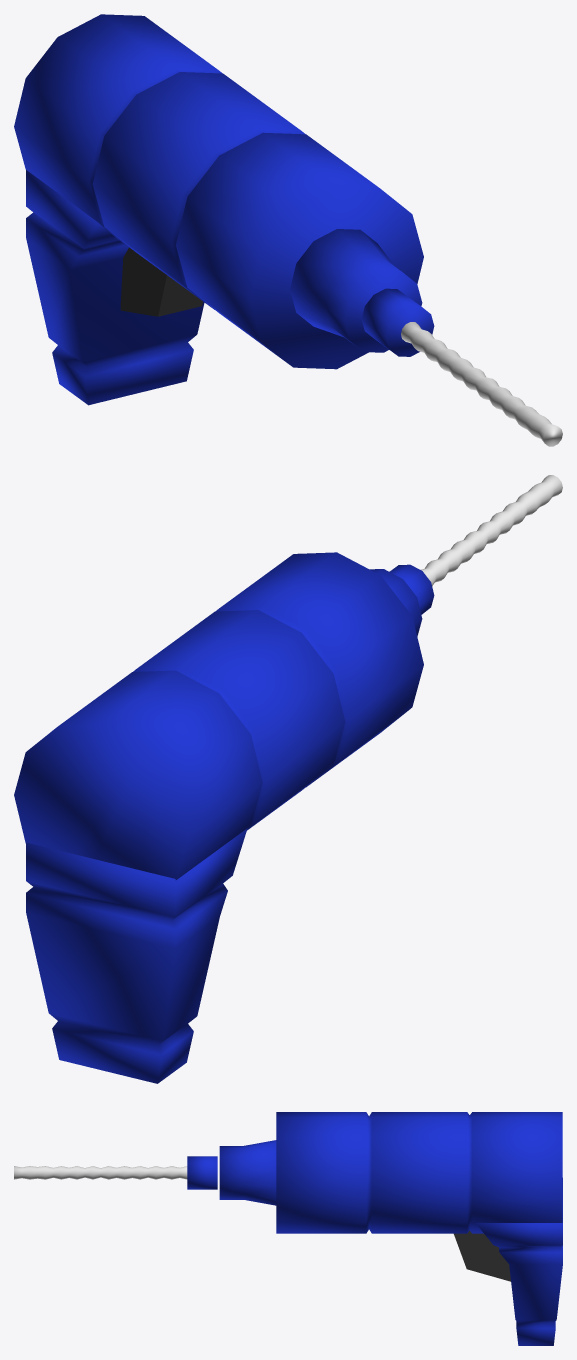
The model's file is Drill.fbx.
The picture shows the model from 3 angles, top to bottom: view 1: azimuth 30°, elevation 25°; view 2: azimuth 150°, elevation 25°; view 3: azimuth 270°, elevation 25°; orthographic projection. The views are drawn at different scales.
Visible parts, largest first — view 1: Drill, DrillBit, OnOffTrigger; view 2: Drill, DrillBit; view 3: Drill, DrillBit, OnOffTrigger.
Boxes of the visible parts, left/top/right/bottom form: Drill: left=14, top=14, right=434, bottom=405; DrillBit: left=401, top=322, right=562, bottom=446; OnOffTrigger: left=120, top=247, right=202, bottom=316; Drill: left=14, top=552, right=434, bottom=1083; DrillBit: left=421, top=475, right=562, bottom=586; Drill: left=187, top=1112, right=562, bottom=1345; DrillBit: left=14, top=1166, right=187, bottom=1179; OnOffTrigger: left=454, top=1230, right=510, bottom=1281.
Size of the model in its own units: 0.3169 by 0.6126 by 1.43.
